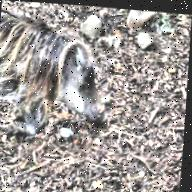boar: (0, 8, 135, 132)
